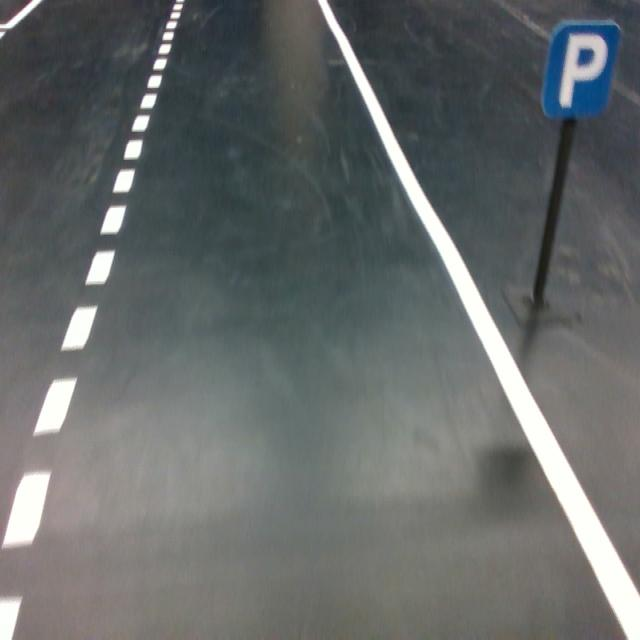parking-sign: (539, 18, 622, 122)
